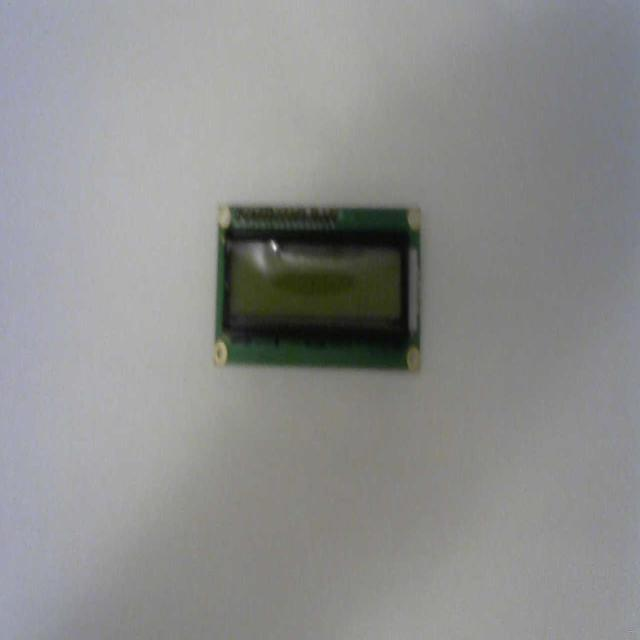lcd: (213, 201, 423, 371)
